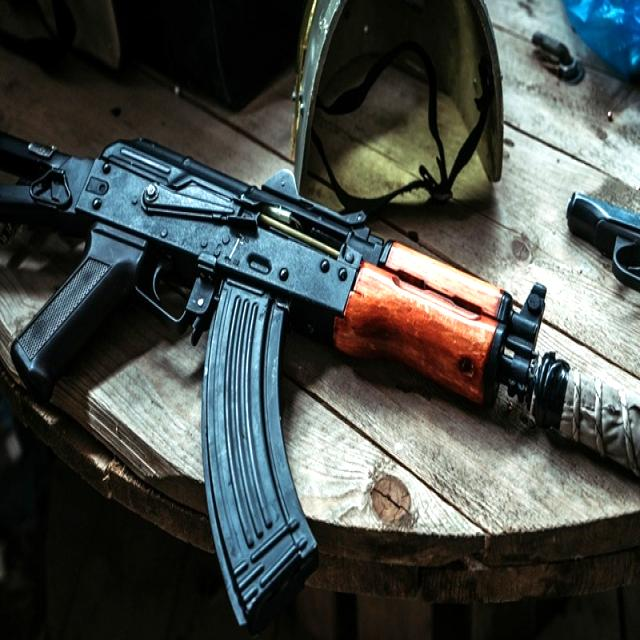ak: (0, 124, 551, 630)
